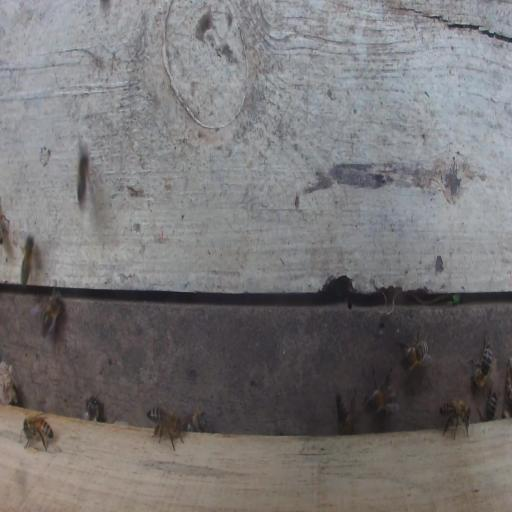Insects: (146, 405, 185, 451), (363, 367, 400, 414), (21, 410, 55, 452), (439, 397, 471, 440), (469, 333, 492, 390), (400, 330, 431, 372), (77, 137, 93, 212), (41, 288, 64, 338), (336, 388, 356, 437), (20, 234, 35, 286), (184, 409, 209, 432), (479, 392, 498, 421), (83, 395, 101, 422)
